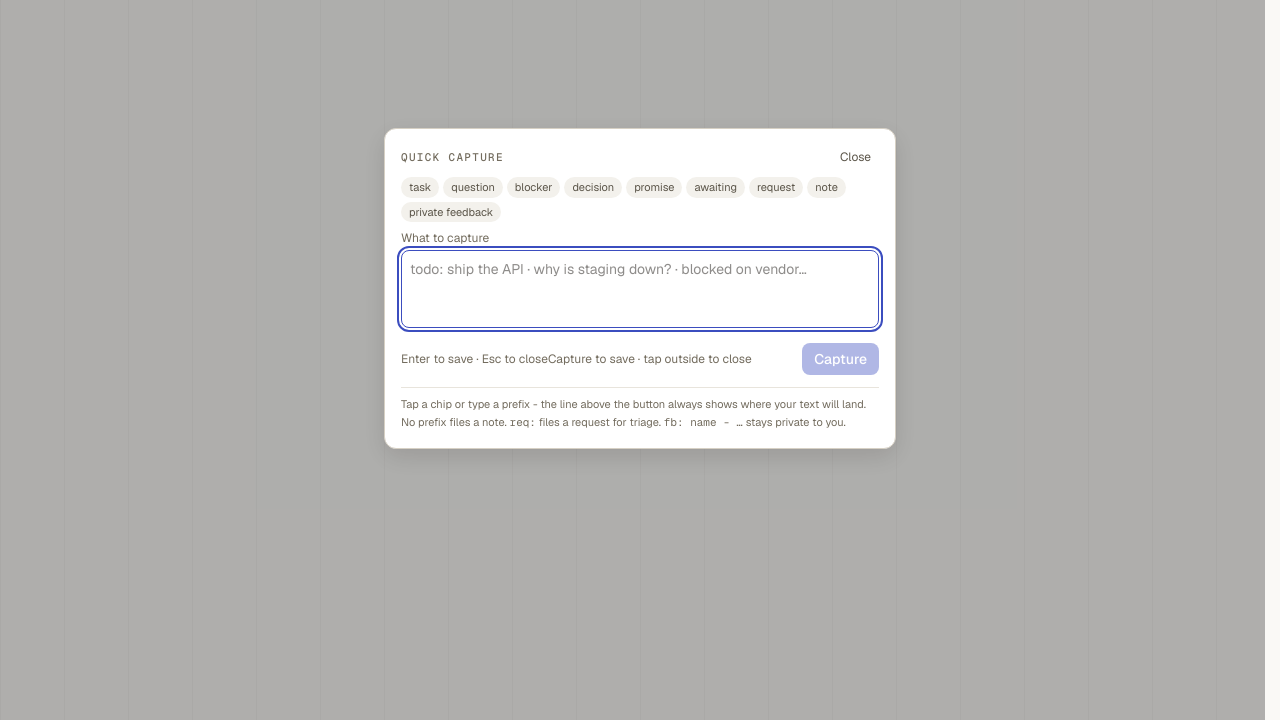
quick capture and the promise label › describes private feedback with the authentication property it needs
The image size is (1280, 720).
Replace the text in the text box labelled "What to capture" with "fb: dana - clear feedback": (640, 289) [401,250,879,328]
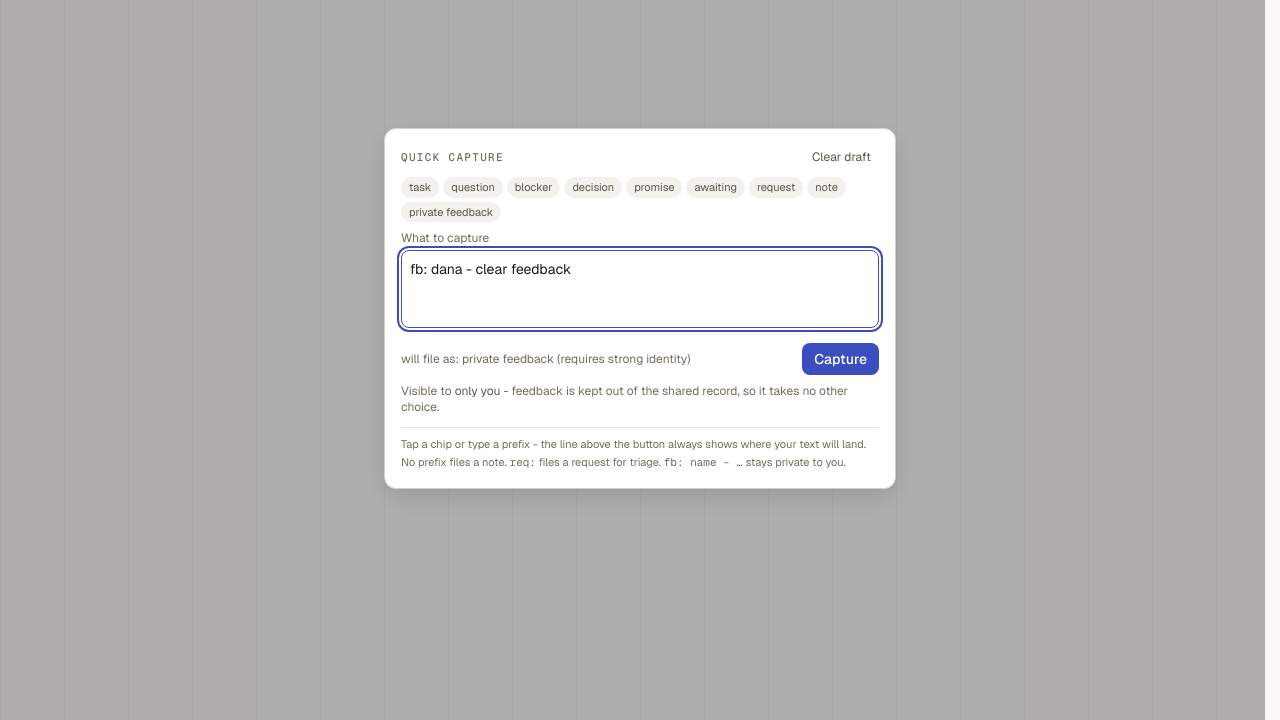
Check: the text "will file as: private feedback (requires strong identity)" is shown, box [401,351,690,367]
